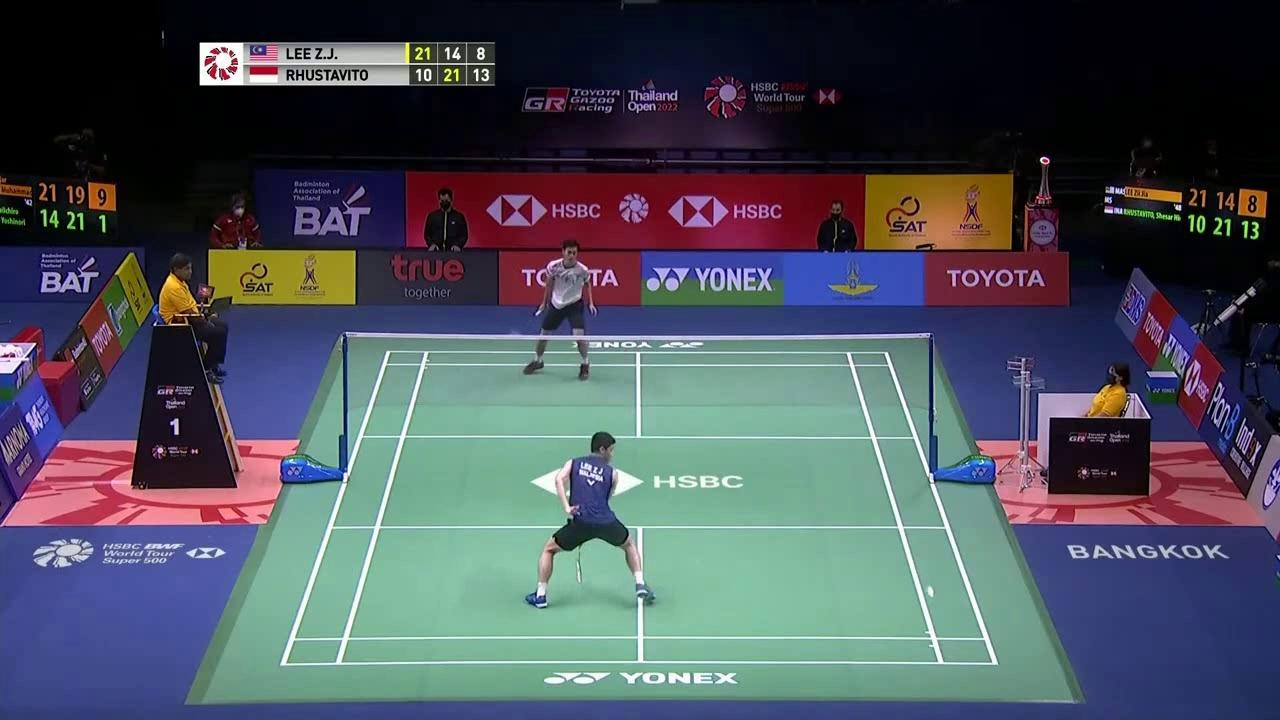racket: (508, 308, 543, 344), (575, 542, 586, 584)
shuttle: (926, 585, 935, 598)
